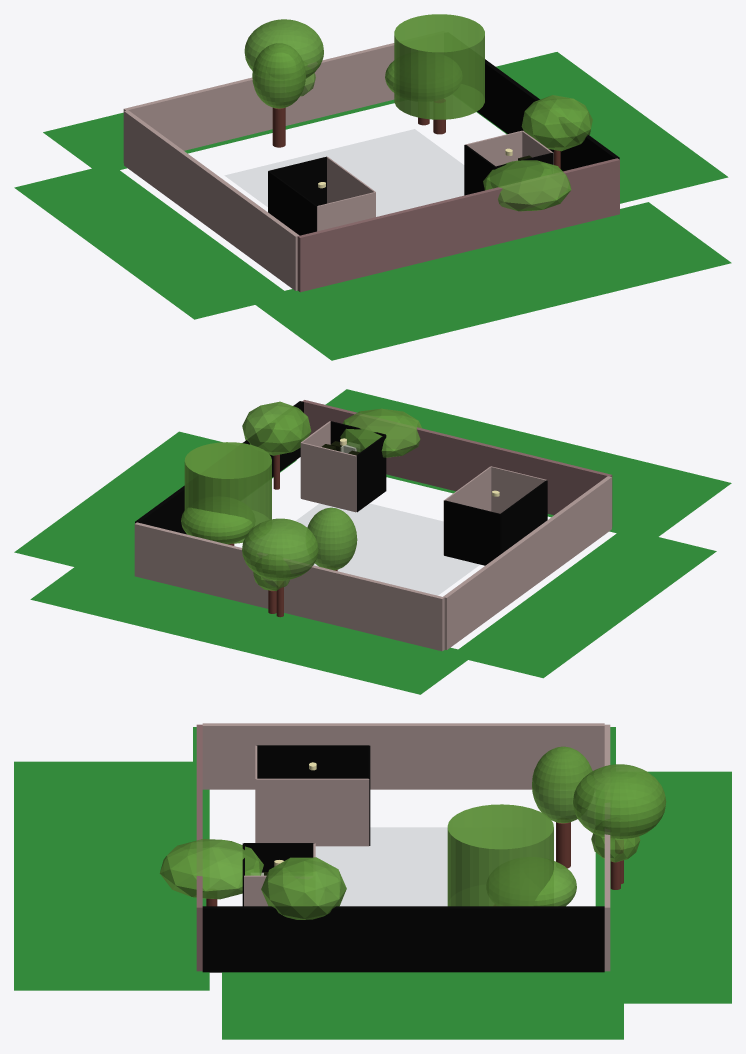
Rendered from ultra_varied_c7f19943-1ccf-4f15-93b1-79944d367ea1.obj.
The picture shows the model from 3 angles, top to bottom: view 1: azimuth 30°, elevation 25°; view 2: azimuth 150°, elevation 25°; view 3: azimuth 270°, elevation 25°; orthographic projection. The views are drawn at different scales.
Visible parts, largest first — view 1: Grass_Front, ExteriorWall_South, Grass_Left, ExteriorWall_North, Grass_Right, ExteriorWall_West, Crown_5, Foundation, ExteriorWall_East, Grass_Back, Crown_4, Crown_1 (+10 smaller); view 2: Grass_Back, Grass_Left, ExteriorWall_North, Grass_Front, Grass_Right, ExteriorWall_South, ExteriorWall_West, Foundation, Crown_5, Crown_1, NorthWall_Kitchen_2, NorthWall_Bedroom_3 (+11 smaller); view 3: Grass_Front, Grass_Right, ExteriorWall_East, Grass_Back, ExteriorWall_West, Crown_5, Foundation, EastWall_Bedroom_3, Crown_1, Crown_4, Crown_6, WestWall_Bedroom_3 (+8 smaller).
Part boxes in pixels (<box>): Grass_Front: <box>255,202,731,360</box>; ExteriorWall_South: <box>297,158,619,292</box>; Grass_Left: <box>14,164,290,319</box>; ExteriorWall_North: <box>123,43,394,162</box>; Grass_Right: <box>476,52,728,203</box>; ExteriorWall_West: <box>124,110,299,290</box>; Crown_5: <box>394,14,484,119</box>; Foundation: <box>224,129,464,216</box>; ExteriorWall_East: <box>477,59,619,171</box>; Grass_Back: <box>43,99,394,174</box>; Crown_4: <box>483,160,571,211</box>; Crown_1: <box>244,19,323,78</box>; Grass_Back: <box>30,558,475,694</box>; Grass_Left: <box>458,528,716,678</box>; ExteriorWall_North: <box>134,522,444,651</box>; Grass_Front: <box>325,389,731,536</box>; Grass_Right: <box>14,431,296,570</box>; ExteriorWall_South: <box>302,400,612,526</box>; ExteriorWall_West: <box>443,476,611,649</box>; Foundation: <box>295,503,479,595</box>; Crown_5: <box>184,442,271,543</box>; Crown_1: <box>242,518,318,580</box>; NorthWall_Kitchen_2: <box>301,442,356,512</box>; NorthWall_Bedroom_3: <box>444,500,500,565</box>; Grass_Front: <box>14,761,209,990</box>; Grass_Right: <box>222,969,623,1039</box>; ExteriorWall_East: <box>202,906,604,972</box>; Grass_Back: <box>595,771,731,1003</box>; ExteriorWall_West: <box>202,723,604,789</box>; Crown_5: <box>447,804,553,906</box>; Foundation: <box>315,827,447,906</box>; EastWall_Bedroom_3: <box>256,778,369,846</box>; Crown_1: <box>573,764,666,839</box>; Crown_4: <box>159,839,263,899</box>; Crown_6: <box>261,857,346,919</box>; WestWall_Bedroom_3: <box>256,745,369,778</box>.
Size of the model in its own units: 33.33 by 5.91 by 32.35.
